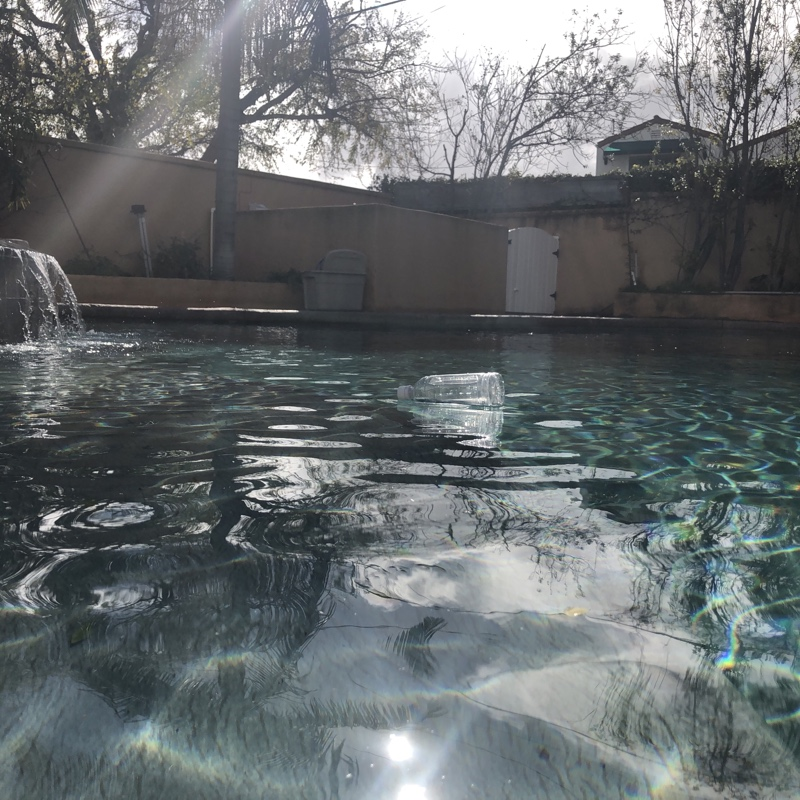Plastic Bottle: (392, 368, 510, 412)
